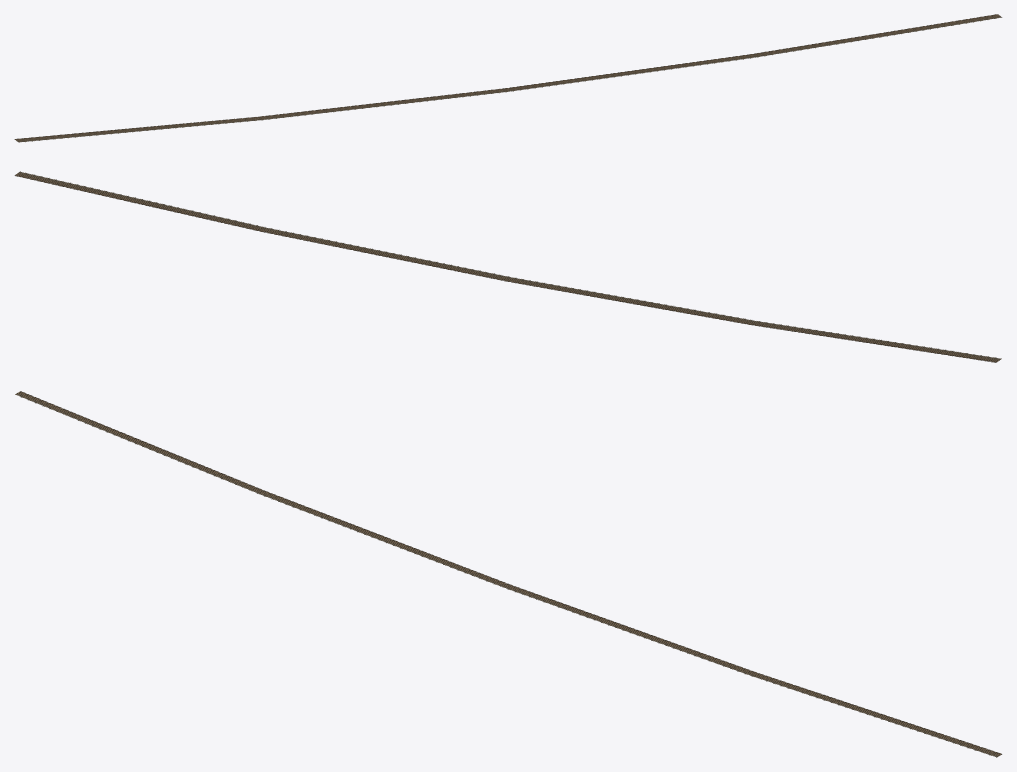
File: SM_LeftBend.fbx
3 views of the same model, one above another, from view 1: azimuth 30°, elevation 25°; view 2: azimuth 150°, elevation 25°; view 3: azimuth 330°, elevation 25° (orthographic). The views are drawn at different scales.
Visible parts, largest first — view 1: LeftBend; view 2: LeftBend; view 3: LeftBend.
Boxes of the visible parts, x1=… form: LeftBend: x1=14, y1=14, x2=1002, y2=142; LeftBend: x1=14, y1=171, x2=1001, y2=362; LeftBend: x1=15, y1=391, x2=1002, y2=757.
Bounding box in the file's own units: 873 × 72.34 × 63.06.
Materials: 1 (1 with a texture image).
